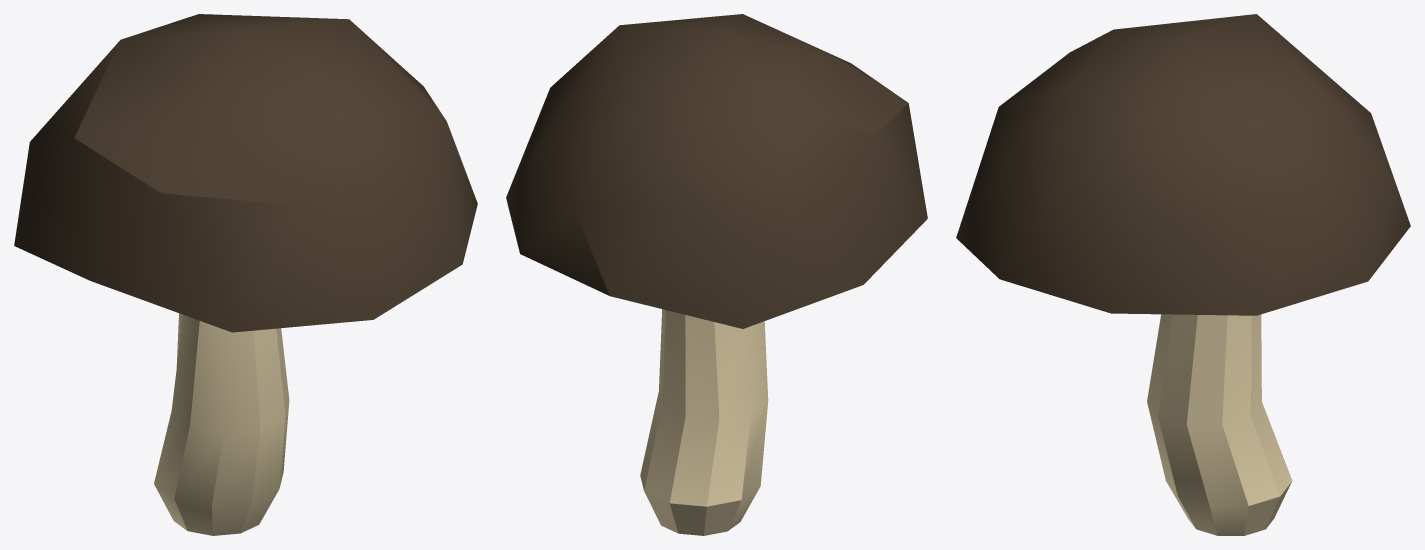
File: Mushroom.fbx
The picture shows the model from 3 angles, left to right: view 1: azimuth 30°, elevation 25°; view 2: azimuth 150°, elevation 25°; view 3: azimuth 270°, elevation 25°; orthographic projection. The views are drawn at different scales.
Parts seen in each view (by area): view 1: Mushroom; view 2: Mushroom; view 3: Mushroom.
Boxes of the visible parts, <box> form: Mushroom: <box>14,14,477,535</box>; Mushroom: <box>506,14,927,535</box>; Mushroom: <box>956,14,1410,535</box>.
Size of the model in its own units: 46.82 by 58.22 by 49.87.
